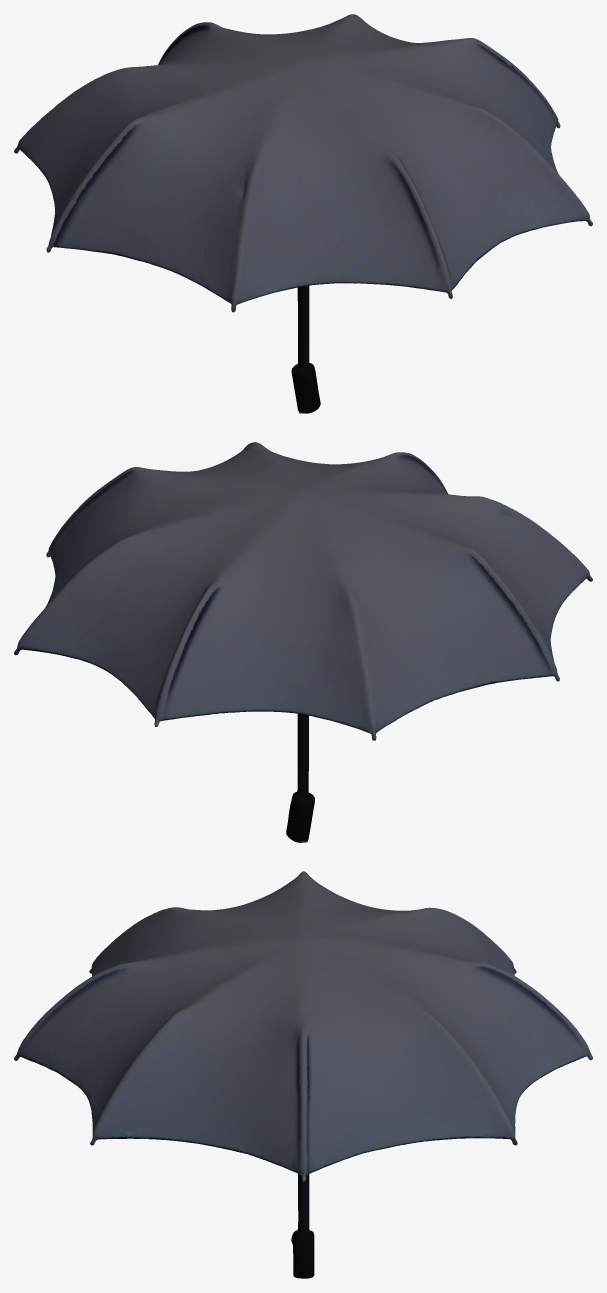
The model's file is goodcase0304_140.glb.
The picture shows the model from 3 angles, top to bottom: view 1: azimuth 30°, elevation 25°; view 2: azimuth 150°, elevation 25°; view 3: azimuth 270°, elevation 25°; orthographic projection. The views are drawn at different scales.
Visible parts, largest first — view 1: object.001; view 2: object.001; view 3: object.001.
Part boxes in pixels (x1,y1,x2,y2): object.001: [14, 14, 592, 413]; object.001: [14, 442, 592, 842]; object.001: [14, 871, 592, 1278].
Bounding box in the file's own units: 1.11 × 0.7211 × 1.11.
1 material, 1 textured.
